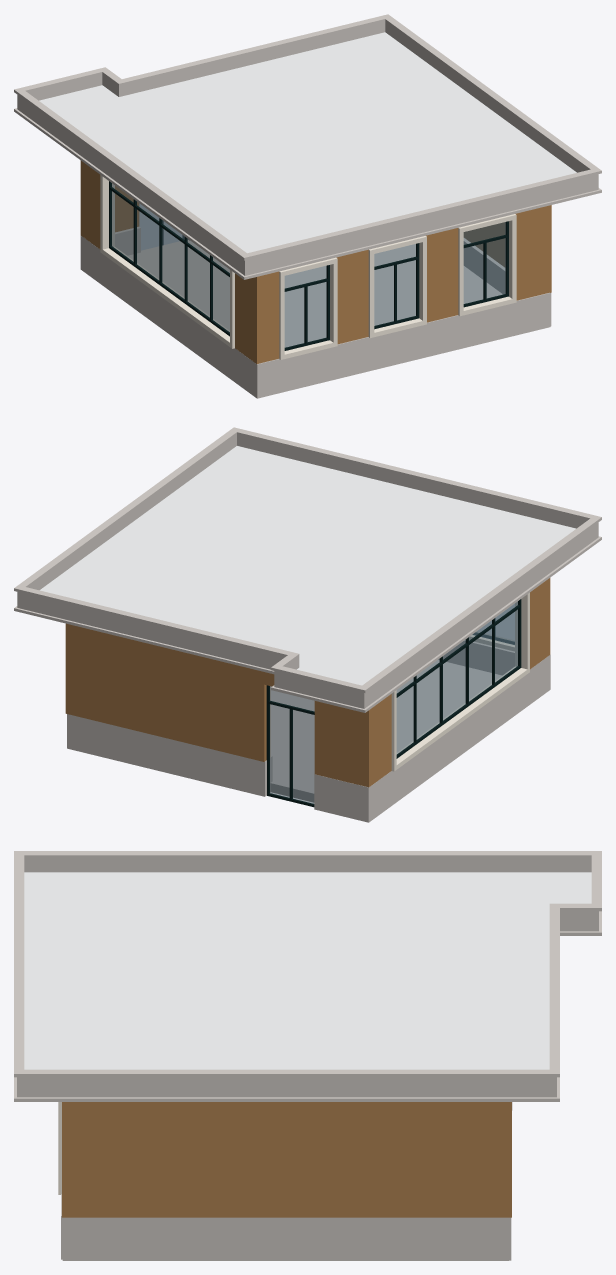
Rendered from menwei.fbx.
3 views of the same model, one above another, from view 1: azimuth 30°, elevation 25°; view 2: azimuth 150°, elevation 25°; view 3: azimuth 270°, elevation 25° (orthographic). The views are drawn at different scales.
Visible parts, largest first — view 1: Rectangle14, Rectangle16, Rectangle11, Rectangle01, Box001, Rectangle04, Rectangle10, Rectangle12, Box002, Rectangle08, Rectangle13, Rectangle03 (+6 smaller); view 2: Rectangle14, Rectangle16, Rectangle07, Rectangle11, Box004, Rectangle10, Box002, Rectangle06, Rectangle08, Rectangle13, Rectangle09, Box005 (+3 smaller); view 3: Rectangle14, Rectangle02, Rectangle16, Box003, Rectangle01, Rectangle07.
Part boxes in pixels (x1,y1,x2,y2): Rectangle14: [39, 32, 576, 253]; Rectangle16: [14, 14, 601, 279]; Rectangle11: [128, 240, 502, 347]; Rectangle01: [266, 205, 551, 361]; Box001: [259, 292, 550, 397]; Rectangle04: [284, 222, 505, 347]; Rectangle10: [112, 183, 229, 331]; Rectangle12: [279, 214, 516, 359]; Box002: [80, 235, 258, 398]; Rectangle08: [80, 160, 266, 363]; Rectangle13: [100, 175, 234, 348]; Rectangle03: [284, 221, 508, 350]; Rectangle14: [40, 446, 575, 685]; Rectangle16: [14, 427, 601, 712]; Rectangle07: [65, 623, 358, 784]; Rectangle11: [270, 660, 501, 802]; Box004: [67, 714, 272, 796]; Rectangle10: [396, 601, 517, 753]; Box002: [356, 654, 550, 822]; Rectangle06: [270, 686, 314, 803]; Rectangle08: [359, 578, 550, 787]; Rectangle13: [391, 592, 529, 771]; Rectangle09: [396, 599, 521, 758]; Box005: [314, 774, 368, 822]; Rectangle14: [24, 872, 591, 1069]; Rectangle02: [76, 1102, 497, 1217]; Rectangle16: [14, 851, 601, 1101]; Box003: [62, 1217, 508, 1260]; Rectangle01: [62, 1102, 76, 1217]; Rectangle07: [497, 1102, 511, 1217].
Bounding box in the file's own units: 54.72 × 23.71 × 60.98.
